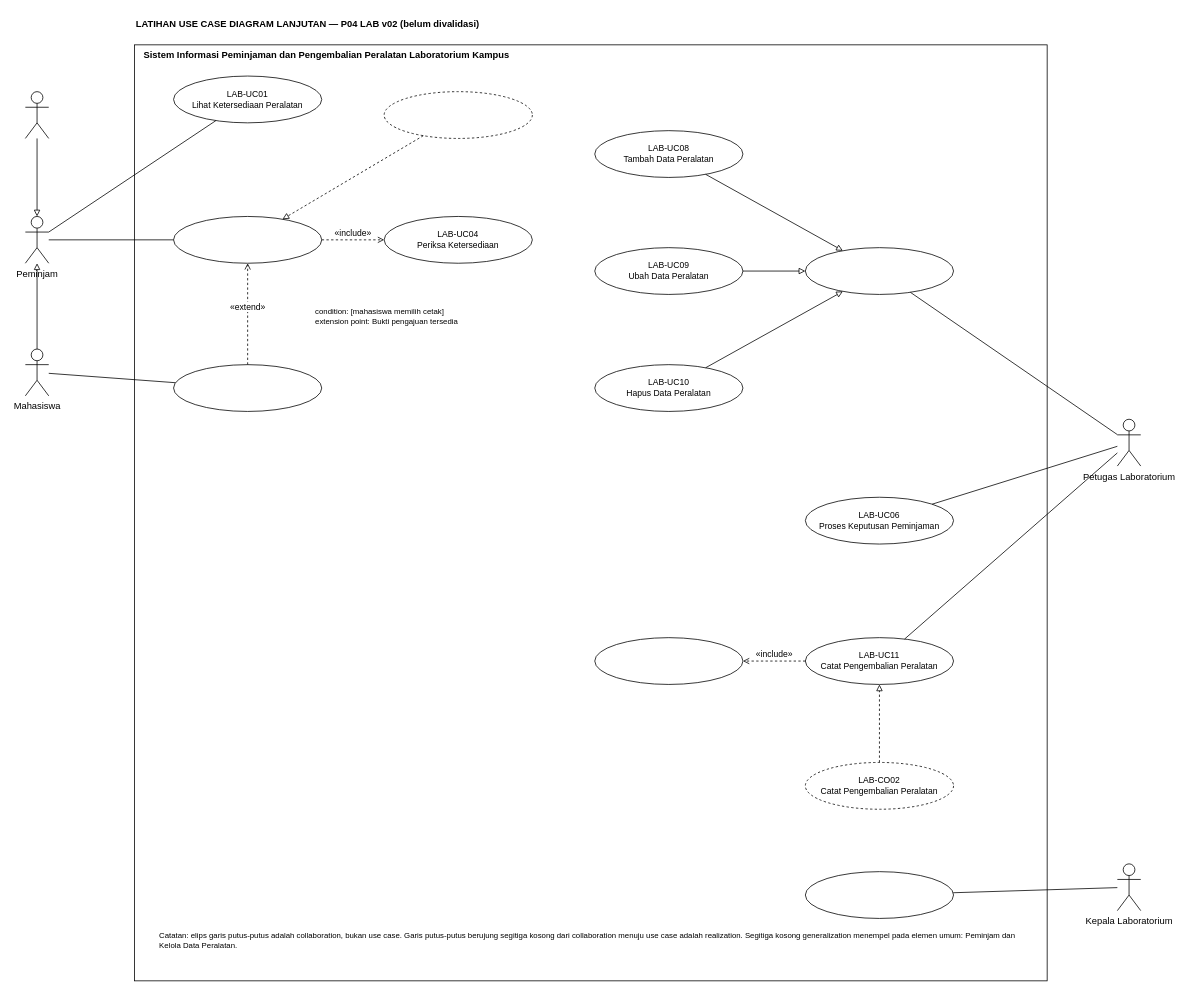
Image size: 1188x994. Some labels were removed from this diagram. The box of each missing label's shape, as (x1, y1, x2, y2) in pixels:
Dosen: (25, 91, 49, 138)
LAB-CO01 Ajukan Peminjaman: (383, 91, 532, 138)
LAB-UC02 Kelola Data Peralatan: (805, 247, 954, 294)
LAB-UC03 Ajukan Peminjaman: (173, 216, 322, 263)
LAB-UC05 Cetak Bukti Pengajuan: (173, 364, 322, 411)
LAB-UC07 Lihat Laporan Peminjaman: (805, 871, 954, 918)
LAB-UC12 Periksa Kondisi Peralatan: (594, 637, 743, 684)
